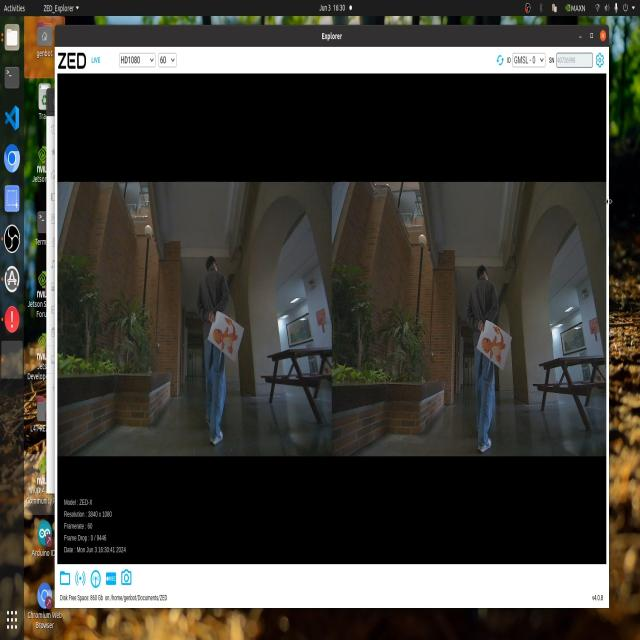red: (478, 320, 507, 363), (215, 309, 240, 358)
